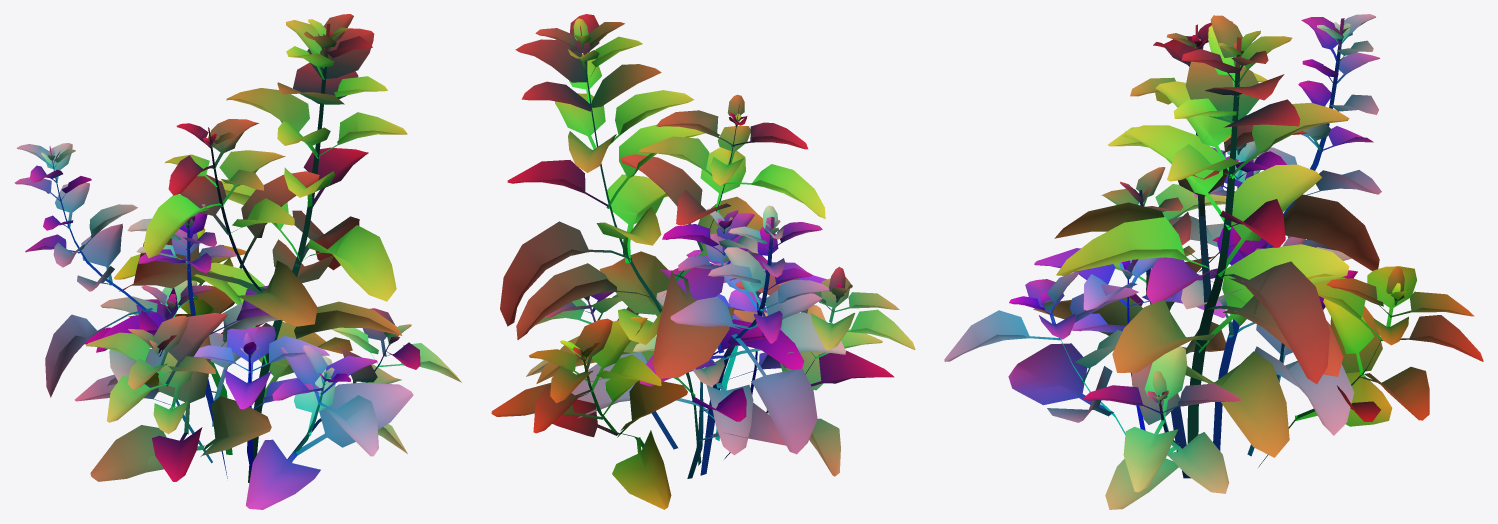
Rendered from Lemon_Balm_umslacdia_Mid_umslacdia_VarB_LOD2.fbx.
3 renders of one model, left to right at view 1: azimuth 30°, elevation 25°; view 2: azimuth 150°, elevation 25°; view 3: azimuth 270°, elevation 25°, orthographic. The views are drawn at different scales.
Visible parts, largest first — view 1: _udis_VarB_LOD4; view 2: _udis_VarB_LOD4; view 3: _udis_VarB_LOD4.
Part boxes in pixels (x1,y1,x2,y2): _udis_VarB_LOD4: (14,14,461,509); _udis_VarB_LOD4: (491,14,915,509); _udis_VarB_LOD4: (944,14,1483,509).
Size of the model in its own units: 66.38 by 73.83 by 73.16.
